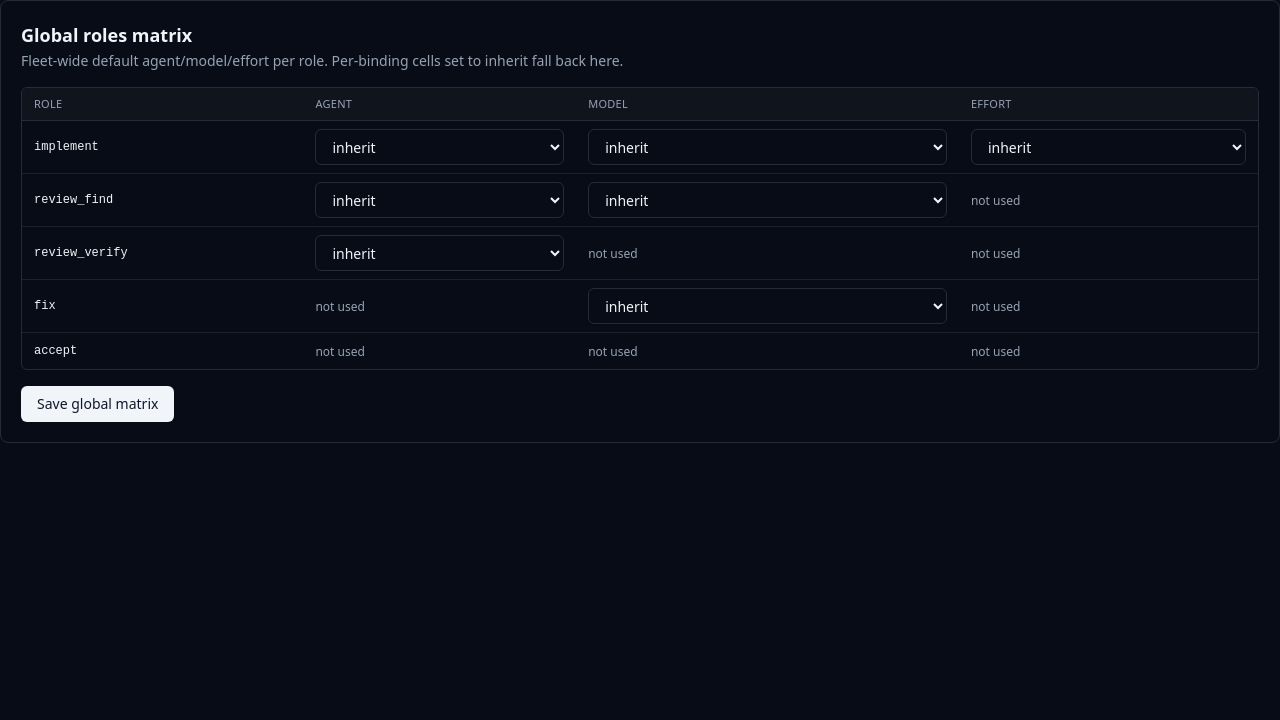
Test: GlobalRolesCard › renders a conflict banner on a 409
Click the button "Save global matrix". click: point(98, 404)
box: [21,386,174,422]
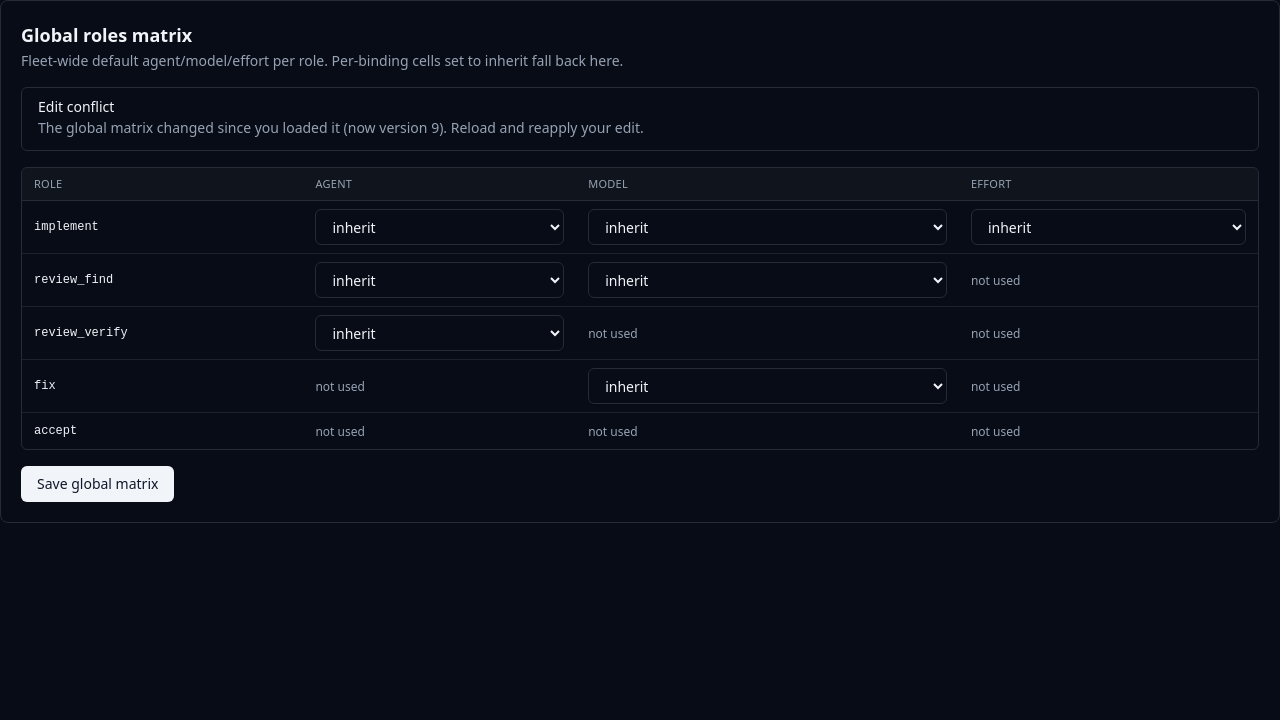
Expected: the heading "Edit conflict" is shown, [38,97,114,116]
Expected: the text "now version 9" is shown, [340,118,443,137]
